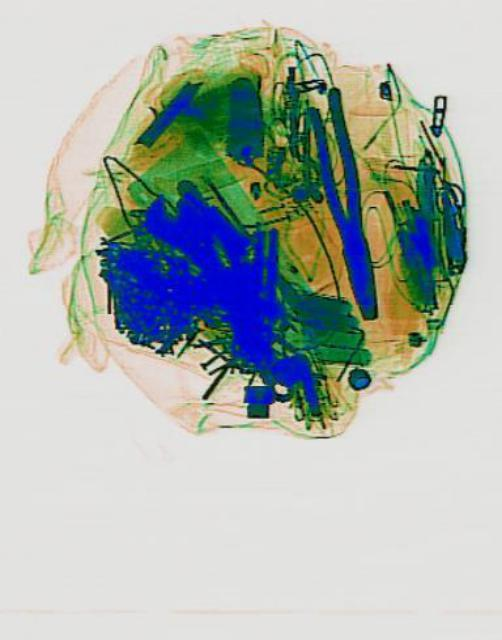Pliers: (300, 82, 385, 324)
Wrench: (135, 170, 309, 418)
